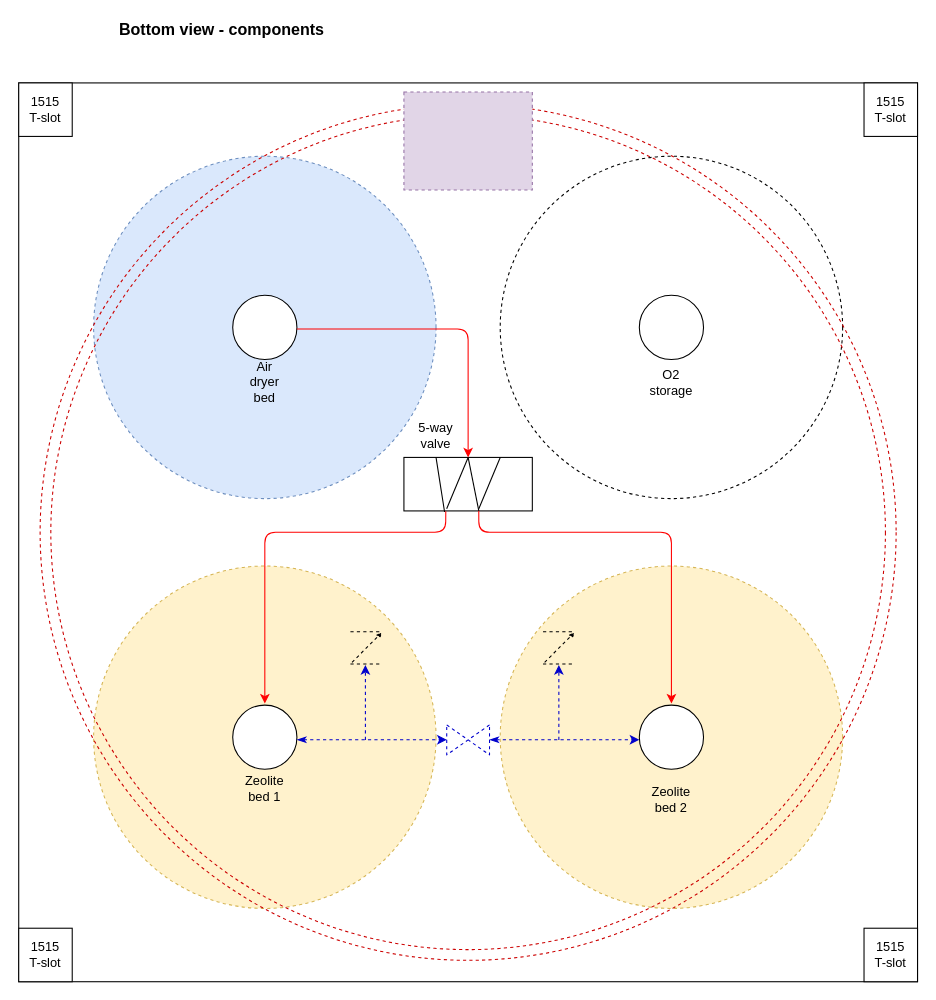
Some shapes in this 936 by 1000 pixel diagram are drawn without their labels. Here are the shapes that lost their labels. From the top down, the centre of each, then its label:
[467,140]: Air filter and water separator
[468,739]: 2-way valve
